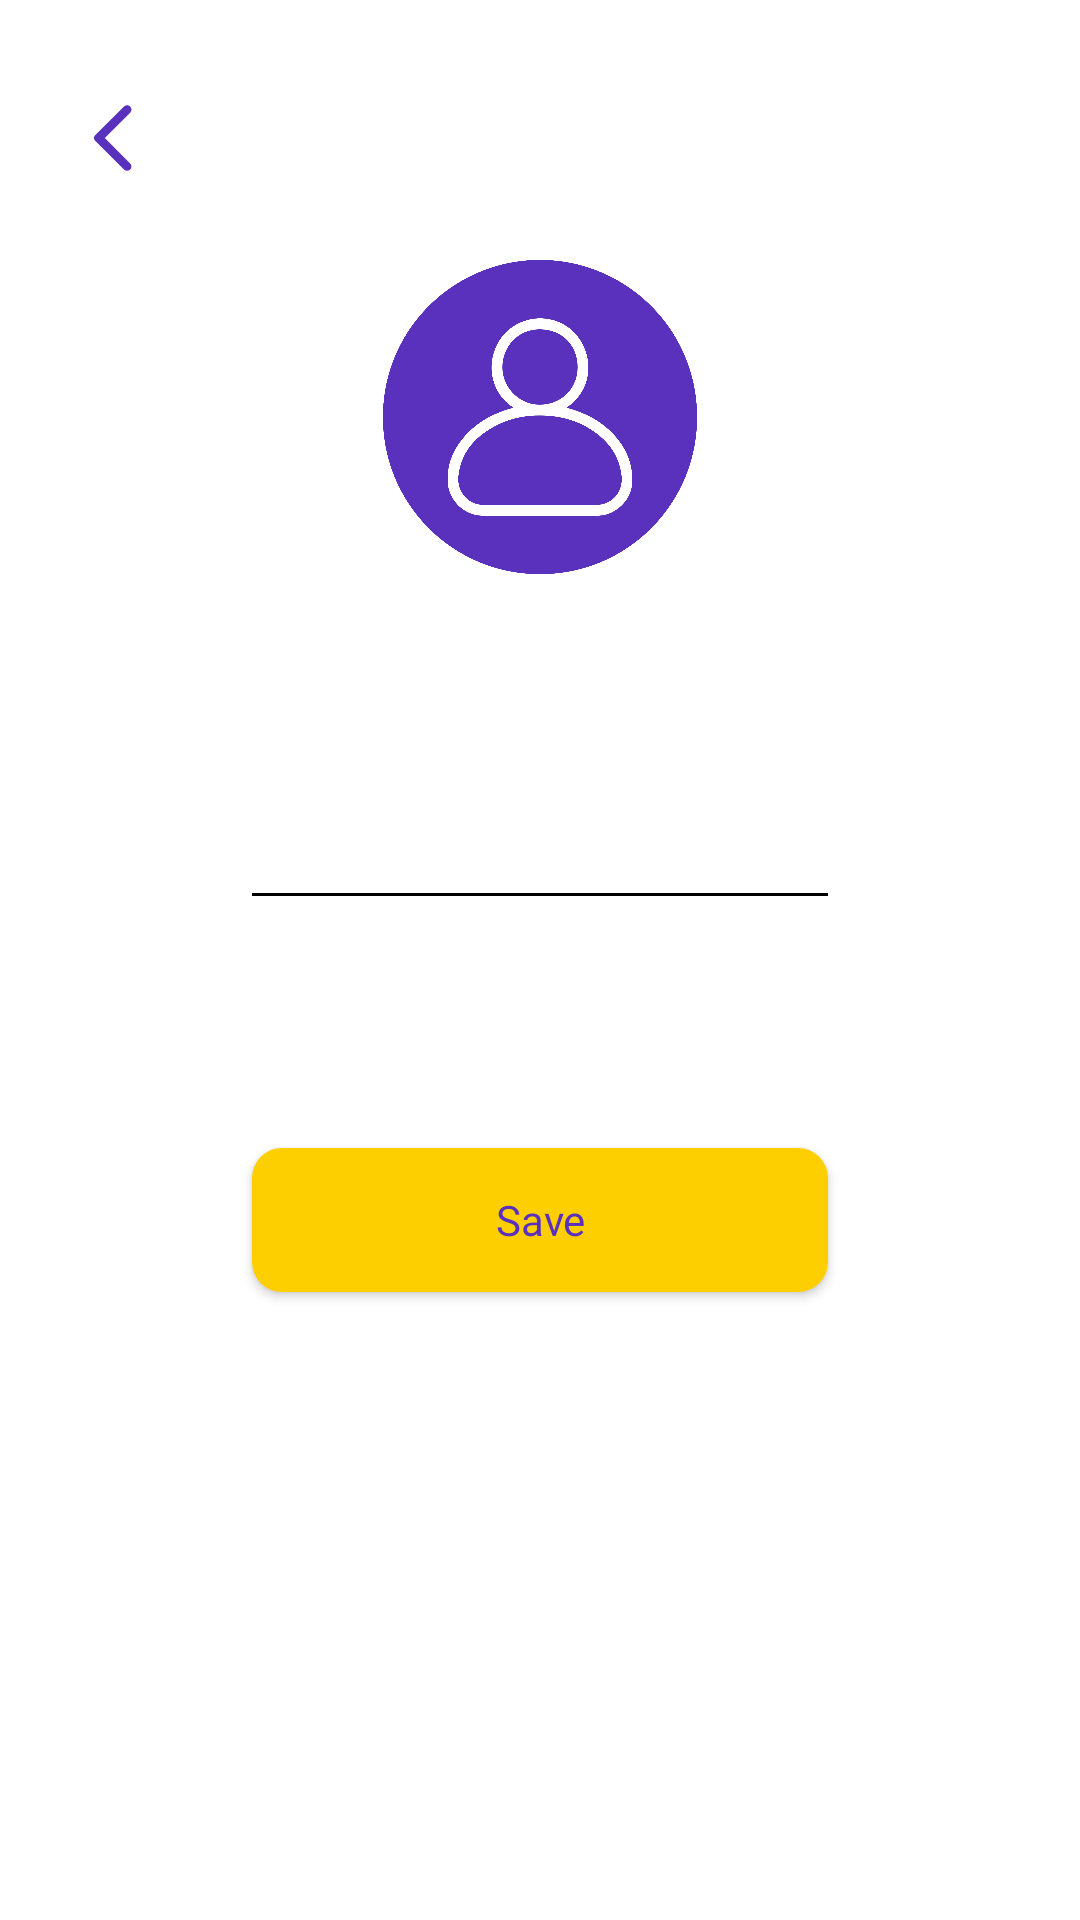

Where to tap for icons on this 1080w x 1920h app screen, as point (x, y):
arrow back: point (113, 138)
profile: point (540, 417)
